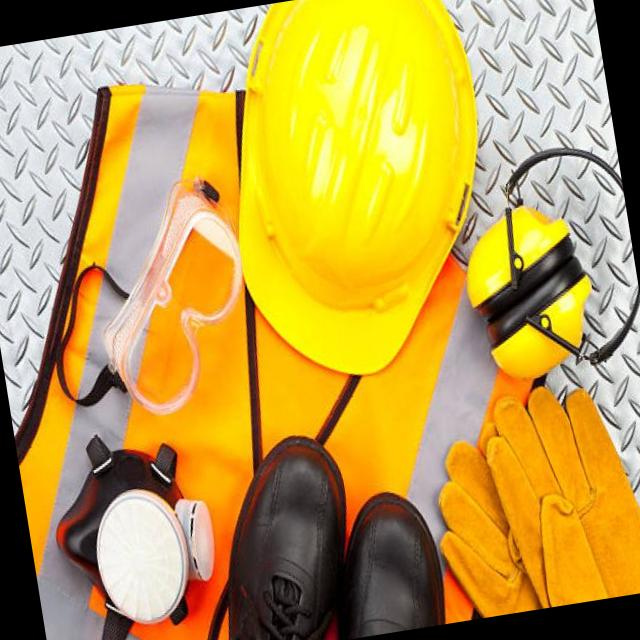Gloves: (185, 409, 447, 640), (429, 348, 640, 620)
Helmet: (190, 0, 511, 364)
